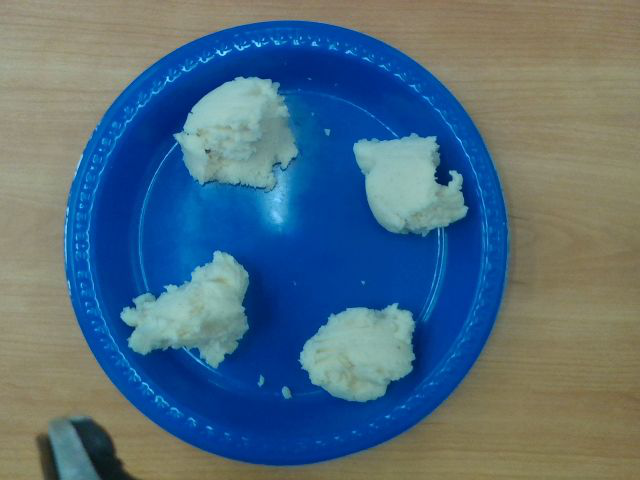mashed_potato: (120, 251, 249, 365), (172, 77, 298, 189), (354, 133, 469, 236), (300, 304, 416, 403)
